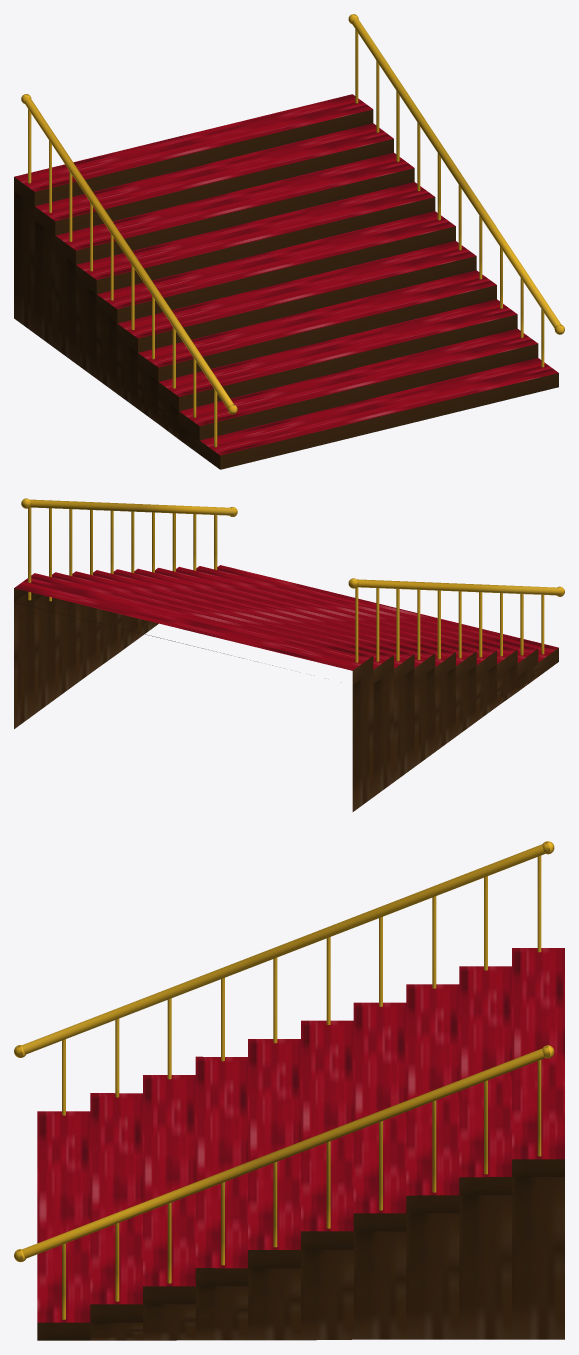
File: Staircase2.fbx
3 renders of one model, top to bottom at view 1: azimuth 30°, elevation 25°; view 2: azimuth 150°, elevation 25°; view 3: azimuth 270°, elevation 25°, orthographic. The views are drawn at different scales.
Visible parts, largest first — view 1: pCube13; view 2: pCube13; view 3: pCube13.
Boxes of the visible parts, bbox=[...] form: pCube13: bbox=[14, 14, 564, 469]; pCube13: bbox=[14, 498, 564, 811]; pCube13: bbox=[14, 841, 564, 1340].
Size of the model in its own units: 12.42 by 7.98 by 13.69.
